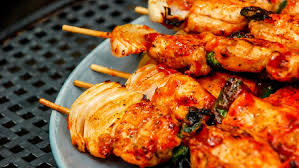sate: (62, 1, 299, 167)
